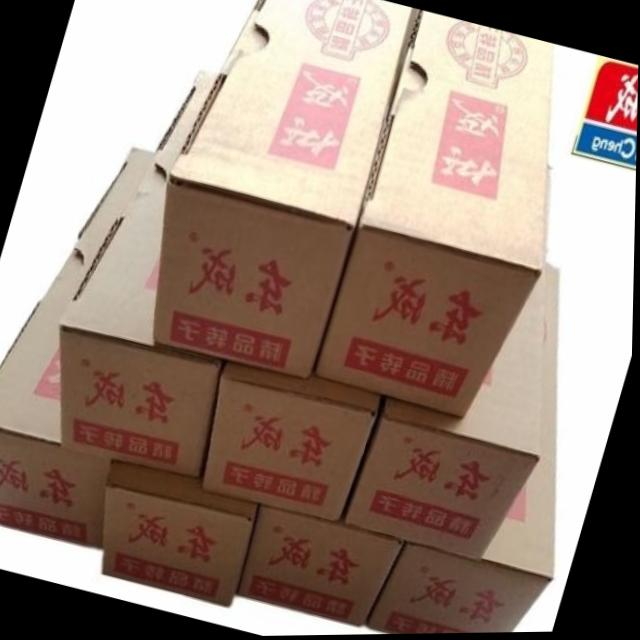box: (154, 0, 415, 378), (317, 11, 554, 420), (347, 169, 553, 562), (368, 267, 560, 635), (62, 73, 223, 477), (0, 147, 154, 552), (206, 361, 381, 525), (101, 458, 257, 611), (240, 502, 403, 630)
